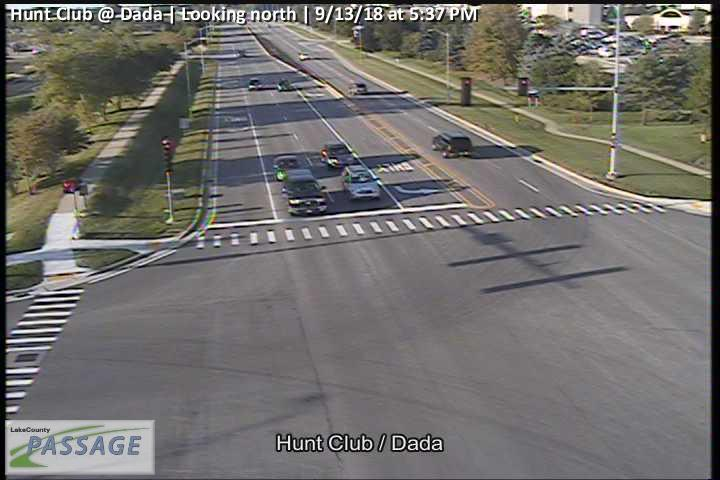SUV: (286, 170, 328, 216), (341, 164, 381, 201), (432, 133, 473, 159)
Sedan: (321, 142, 353, 168), (273, 154, 303, 180), (349, 80, 366, 95), (247, 77, 262, 89), (276, 78, 290, 90)
